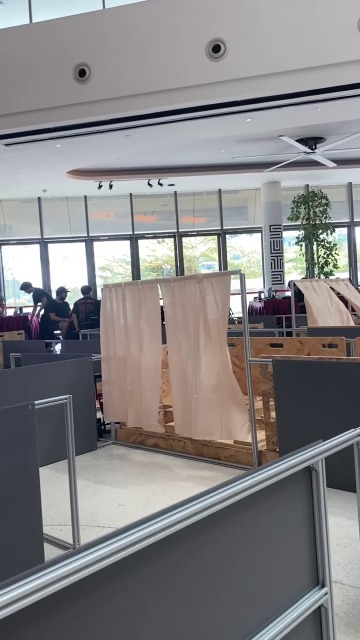curtain: (65, 269, 270, 416)
